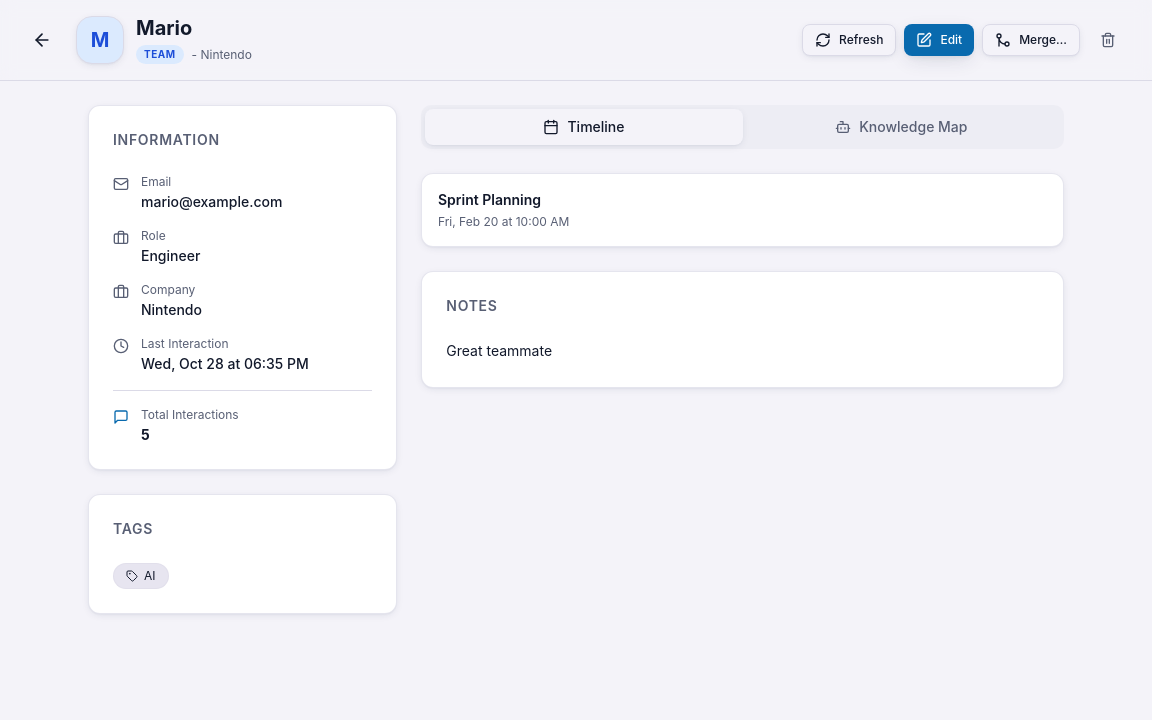
Test: PersonDetail Page › should cancel editing and restore original values
Check: the heading "Mario" is shown, box [136, 16, 192, 40]
// Enter edit mode
Step 1. Click the button "Edit" → {"x": 939, "y": 40}, box [904, 24, 974, 56]
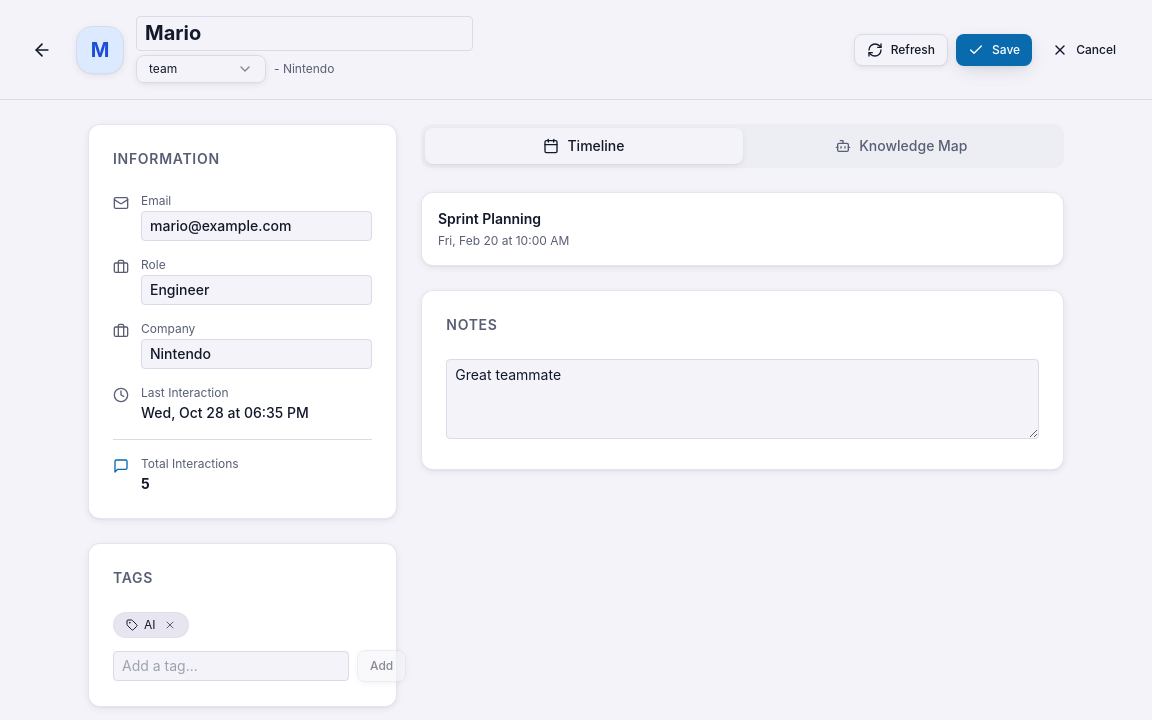
// Modify the name
Step 2. Replace the text in the 1st field with placeholder "Name..." with "Luigi" → {"x": 304, "y": 34}, box [136, 16, 473, 51]
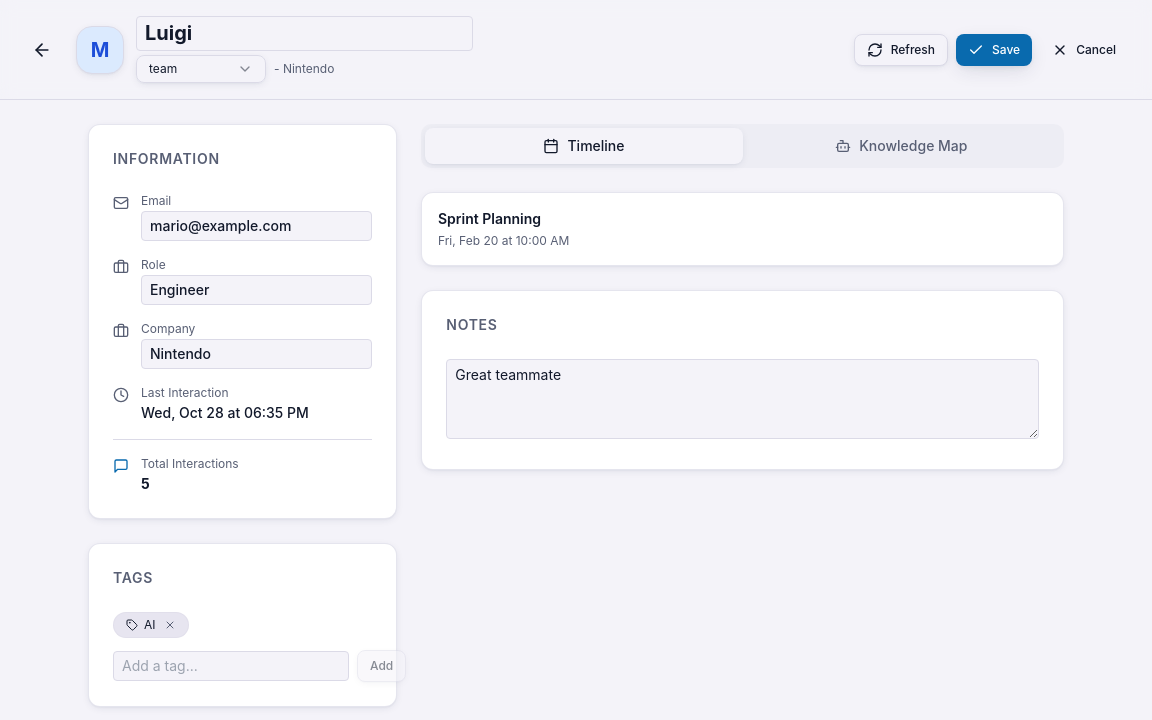
Step 3. Click the button "Cancel" → {"x": 1084, "y": 50}, box [1040, 34, 1128, 66]
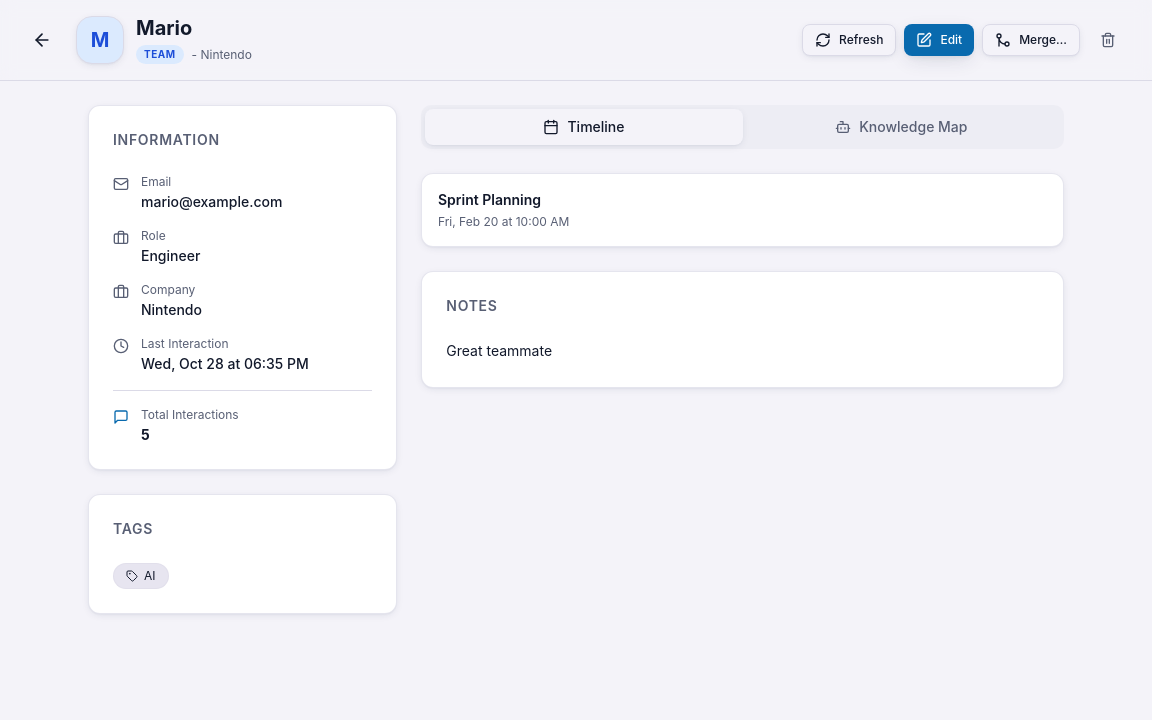
Check: the heading "Mario" is shown, box [136, 16, 192, 40]
